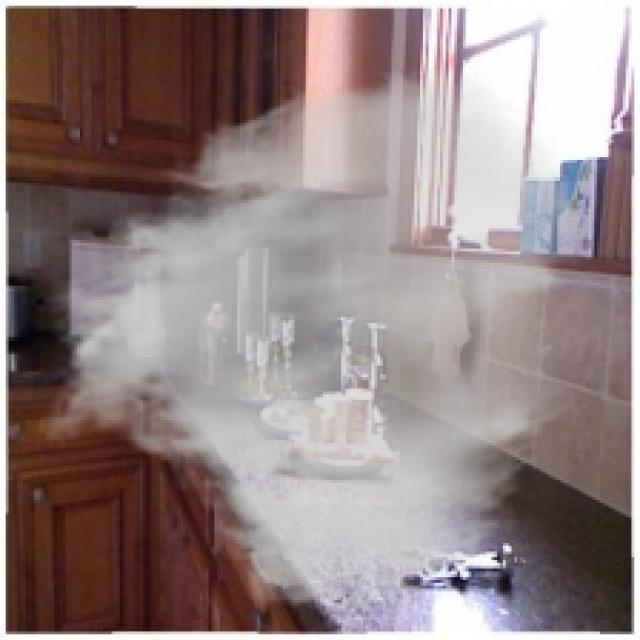Smoke: (34, 62, 589, 614)
